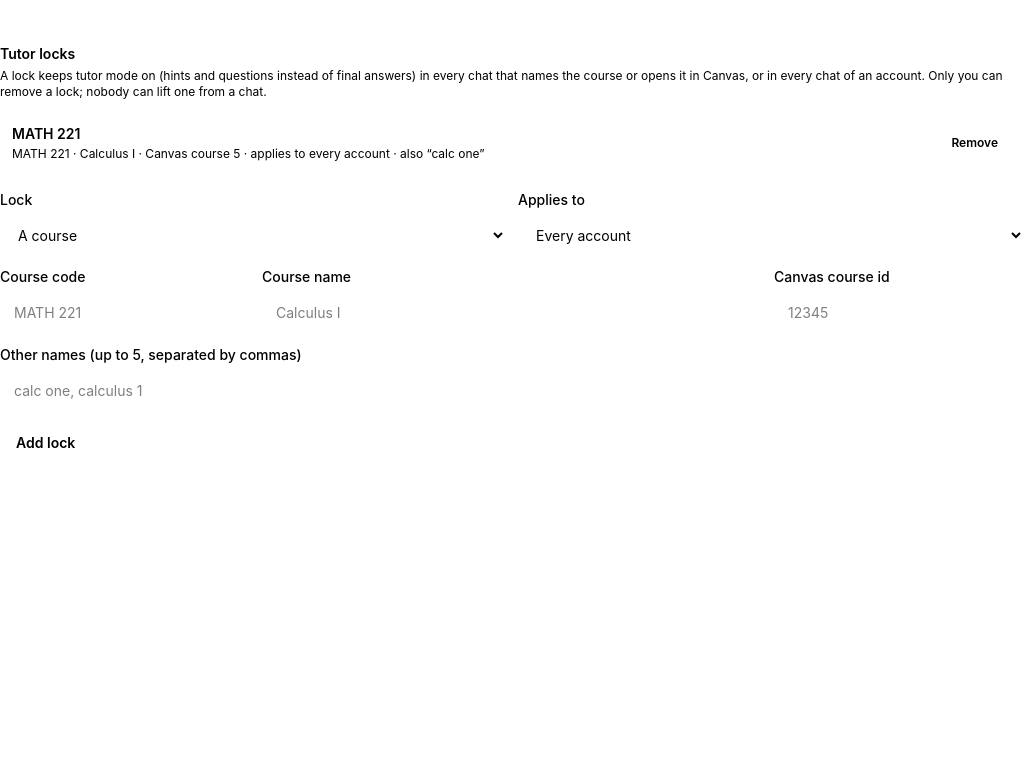
Test: TutorLocks › keeps the lock when removing it fails, with the reason in the dialog
Click the button with aria-label "Remove the MATH 221 lock (every account)". click: (975, 143)
box: [937, 125, 1012, 161]
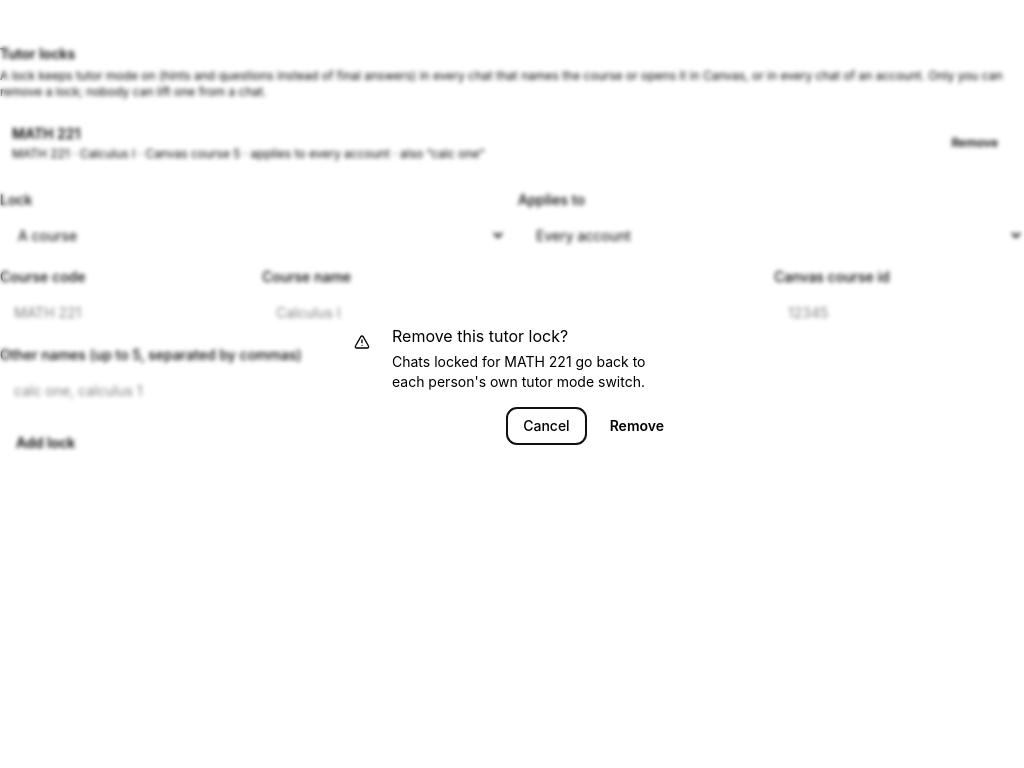
Click the button "Remove". click: (637, 426)
box: [594, 408, 680, 444]
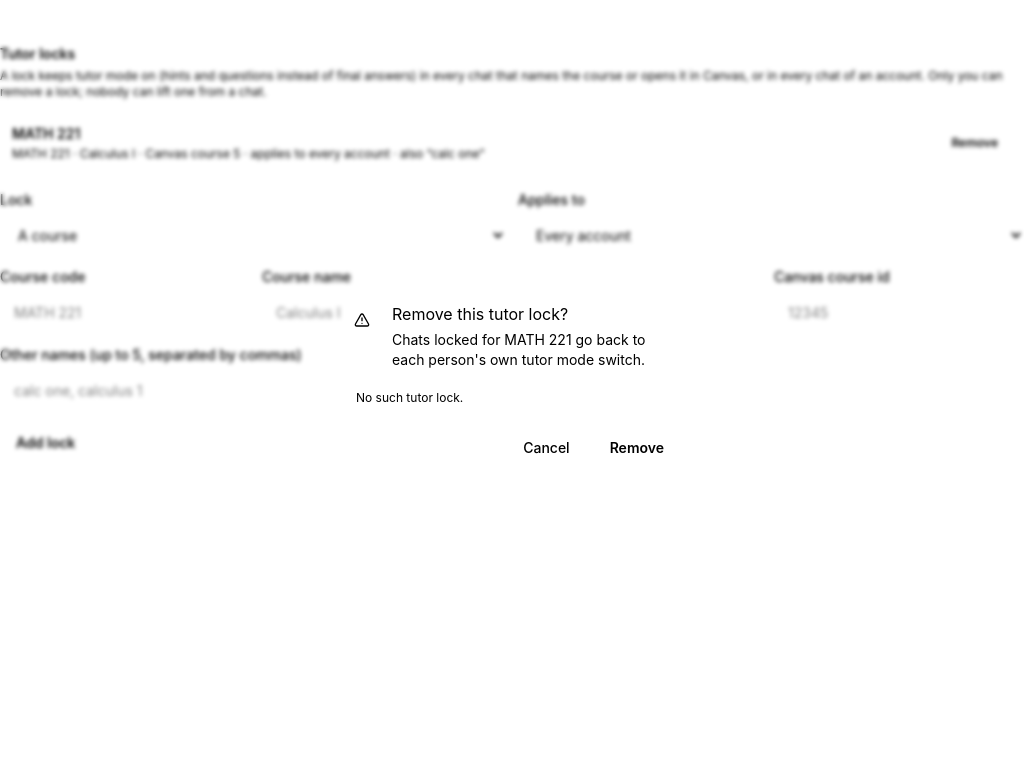
Check: the number of list items is 1, box [12, 125, 1012, 161]
Check: the text "No such tutor lock." is shown, box [356, 390, 463, 405]
